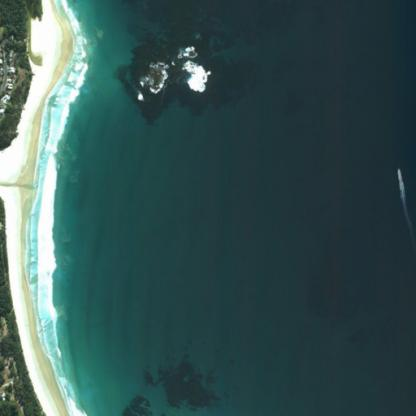ship: (390, 165, 404, 179)
